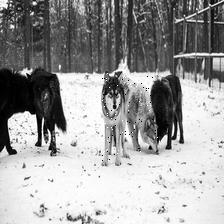WOLF: (126, 76, 161, 154), (102, 71, 126, 167)
